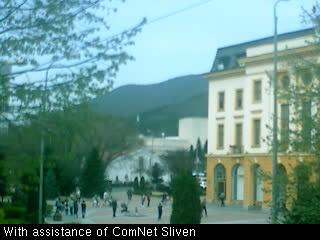person: (200, 198, 208, 217), (112, 199, 119, 219), (121, 202, 130, 216), (157, 203, 163, 221), (81, 200, 87, 218), (69, 197, 75, 215), (74, 199, 79, 218), (220, 192, 226, 207), (64, 198, 69, 216), (103, 192, 108, 207), (56, 197, 61, 212), (92, 195, 98, 207), (146, 194, 151, 208), (162, 193, 167, 205), (127, 189, 132, 200), (141, 194, 145, 207), (97, 195, 101, 207), (109, 192, 112, 206), (134, 206, 138, 216)
